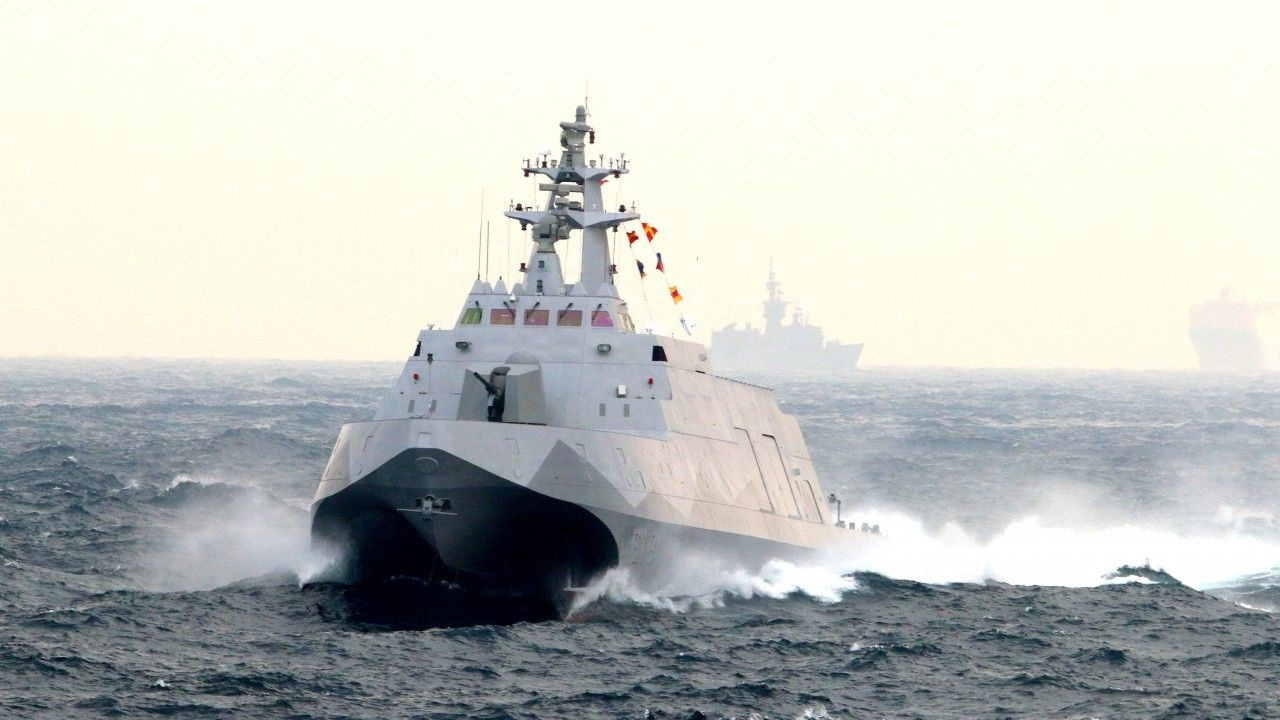warship: (299, 97, 861, 639)
